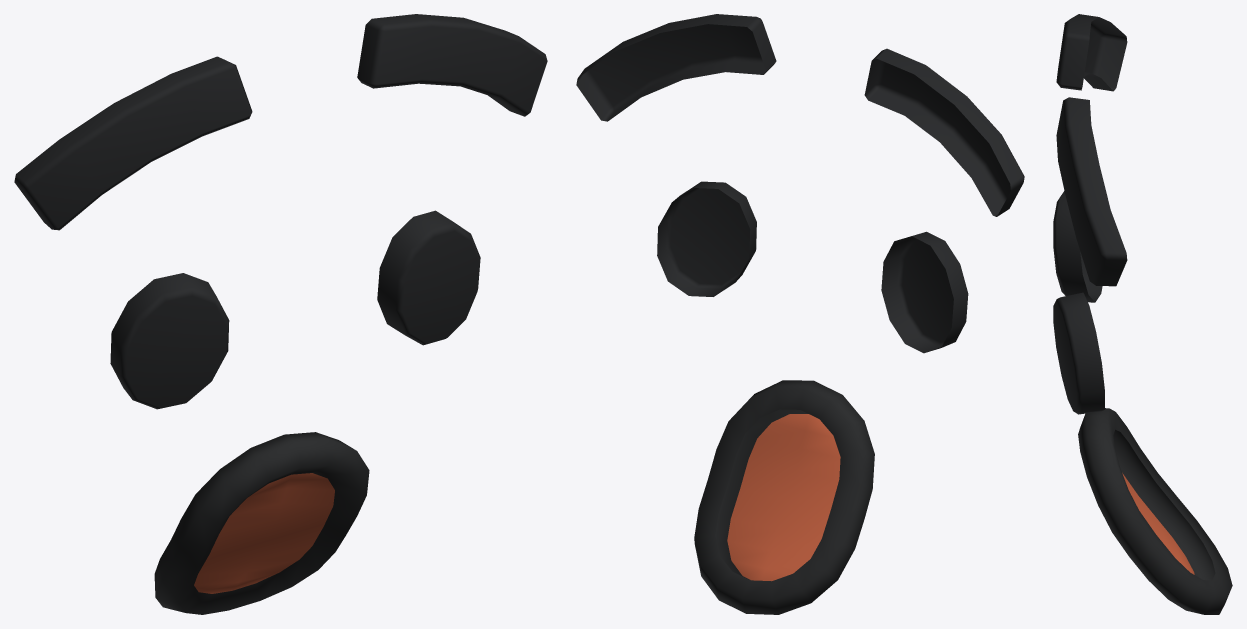
The model's file is Male_Emotion_Surpriced_02.glb.
The picture shows the model from 3 angles, left to right: view 1: azimuth 30°, elevation 25°; view 2: azimuth 150°, elevation 25°; view 3: azimuth 270°, elevation 25°; orthographic projection. The views are drawn at different scales.
Parts seen in each view (by area): view 1: Male_Emotion_Surpriced_02; view 2: Male_Emotion_Surpriced_02; view 3: Male_Emotion_Surpriced_02.
Part boxes in pixels (bbox=[...]): Male_Emotion_Surpriced_02: bbox=[14, 14, 547, 614]; Male_Emotion_Surpriced_02: bbox=[576, 14, 1024, 614]; Male_Emotion_Surpriced_02: bbox=[1053, 14, 1232, 614].
Bounding box in the file's own units: 0.2557 × 0.2915 × 0.0878.
Materials: 1 (1 with a texture image).
